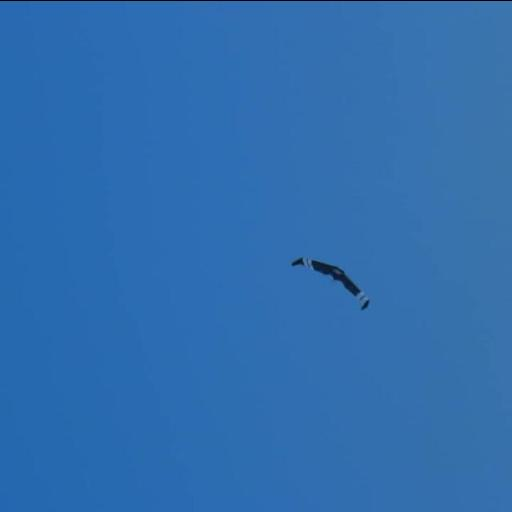uav: (286, 253, 376, 312)
